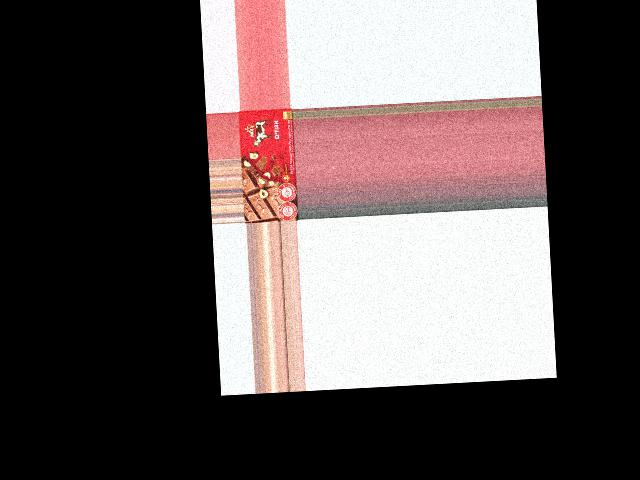chocolate: (239, 107, 297, 222)
